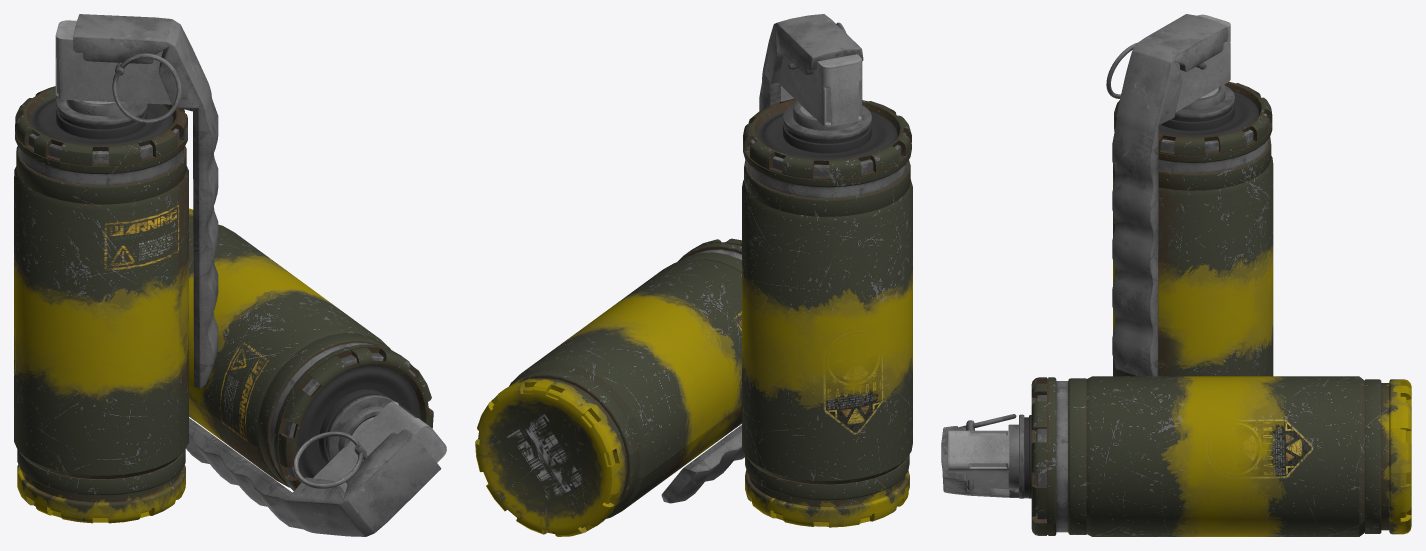
Rendered from gas_grenade.glb.
The picture shows the model from 3 angles, left to right: view 1: azimuth 30°, elevation 25°; view 2: azimuth 150°, elevation 25°; view 3: azimuth 270°, elevation 25°; orthographic projection. The views are drawn at different scales.
Parts seen in each view (by area): view 1: DefaultMaterial-material (×2); view 2: DefaultMaterial-material (×2); view 3: DefaultMaterial-material (×2).
Part boxes in pixels (x1,y1,x2,y2): DefaultMaterial-material (×2): (14, 14, 446, 536); DefaultMaterial-material (×2): (475, 14, 912, 536); DefaultMaterial-material (×2): (941, 14, 1411, 536).
Bounding box in the file's own units: 0.2565 × 0.3531 × 0.3527.
1 material, 1 textured.
